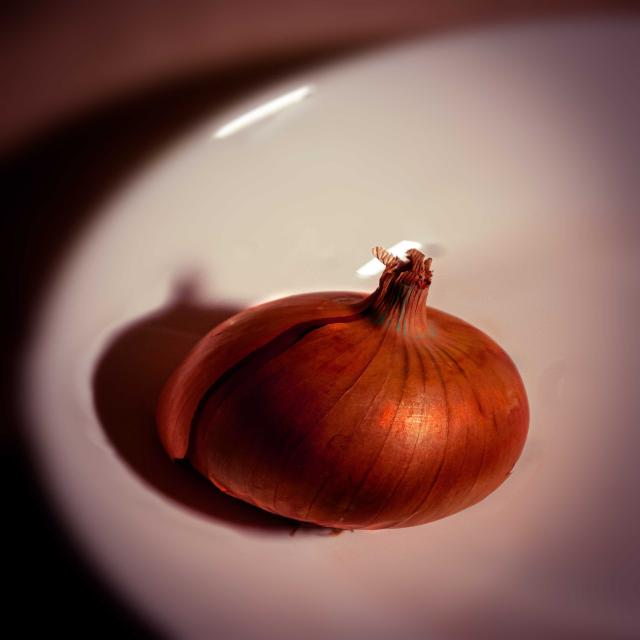onion: (182, 290, 531, 530)
